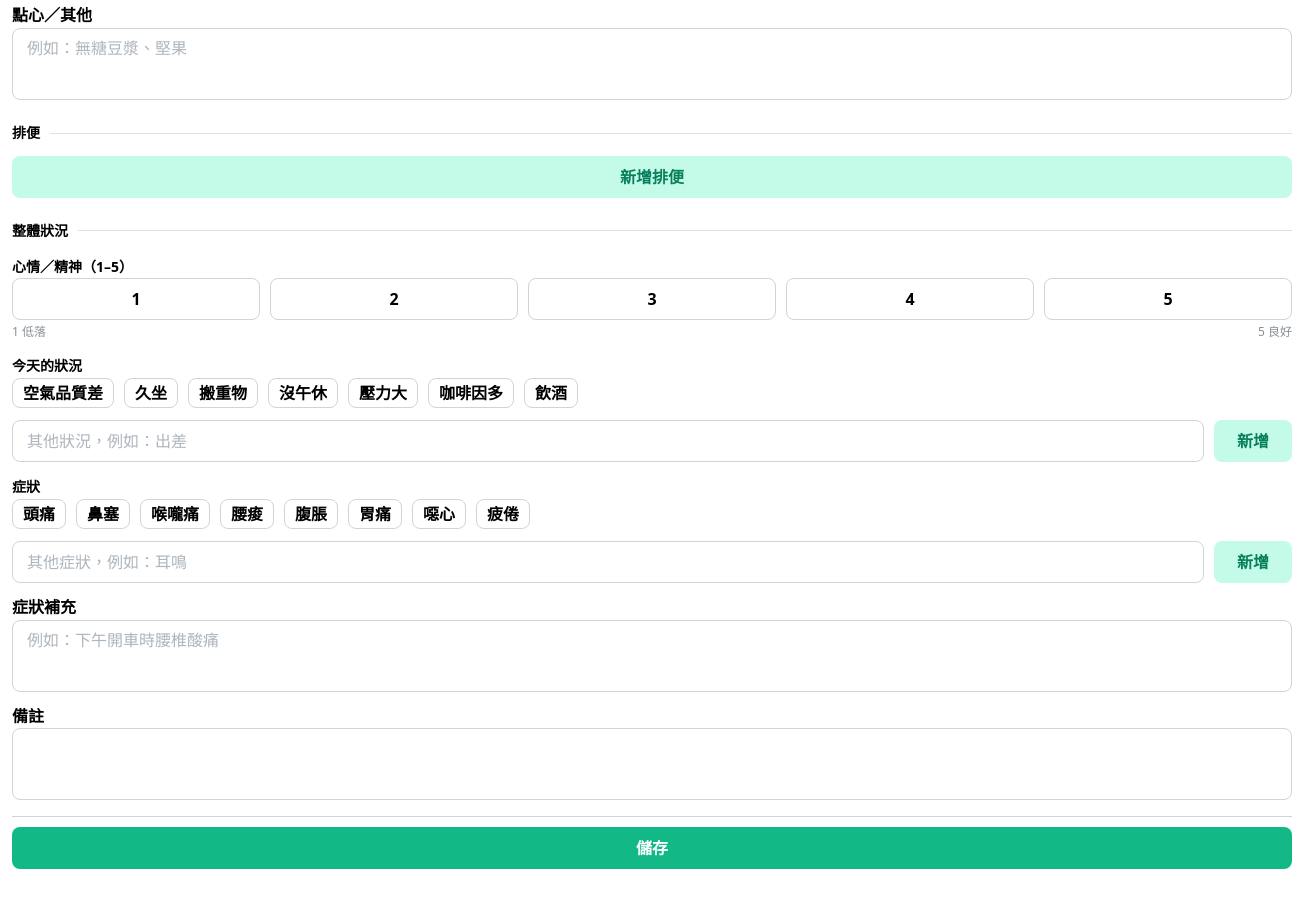
Test: EntryForm：症狀 › 點選症狀後預設輕，可改成中或重，再點一次症狀就取消
(page scrolled)
Click the button "頭痛" at (39, 514), box [12,499,66,529]
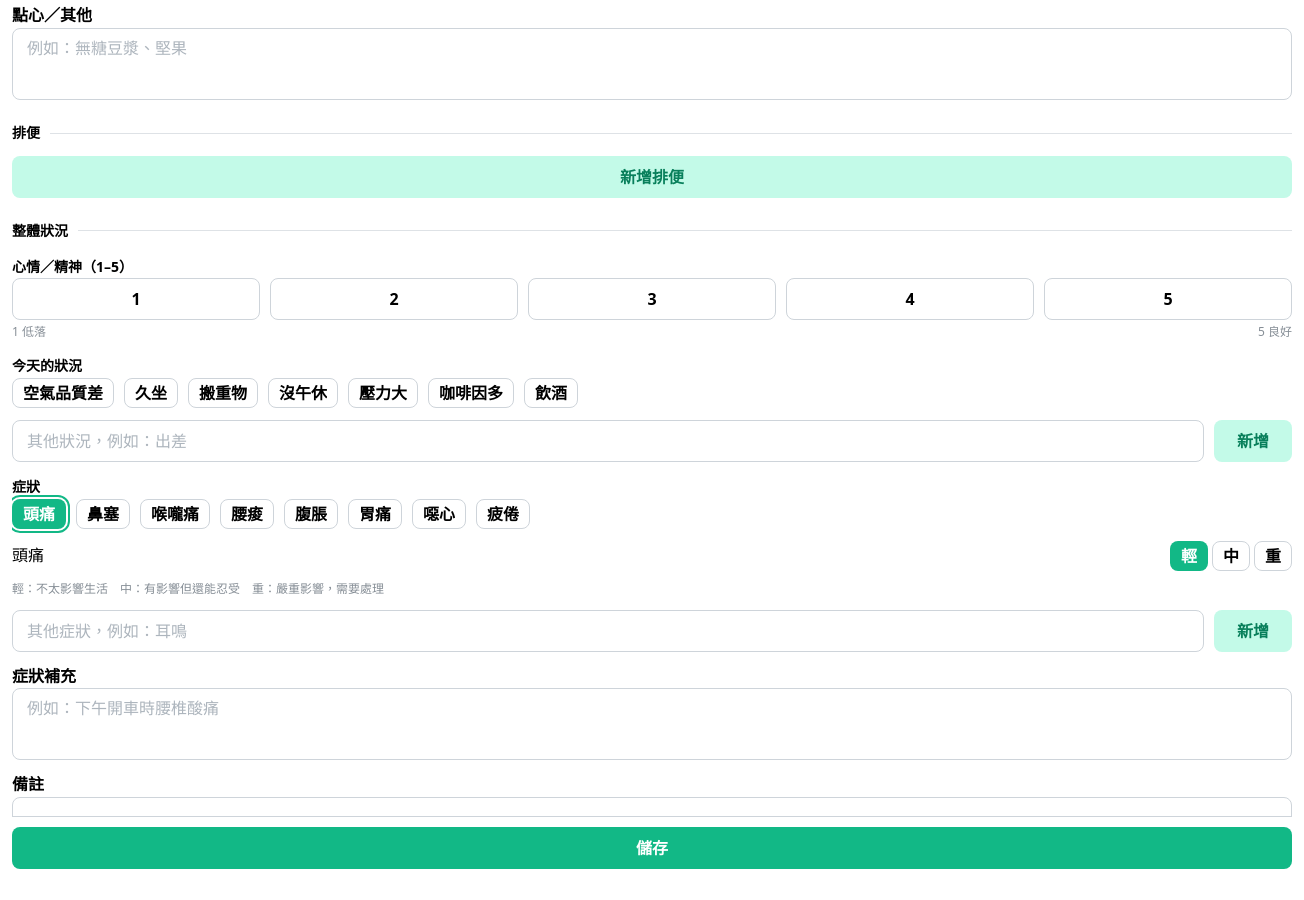
Result: the button "頭痛" is pressed at [12,499,66,529]
Click the button "重" at (1273, 556), box [1254,541,1292,571]
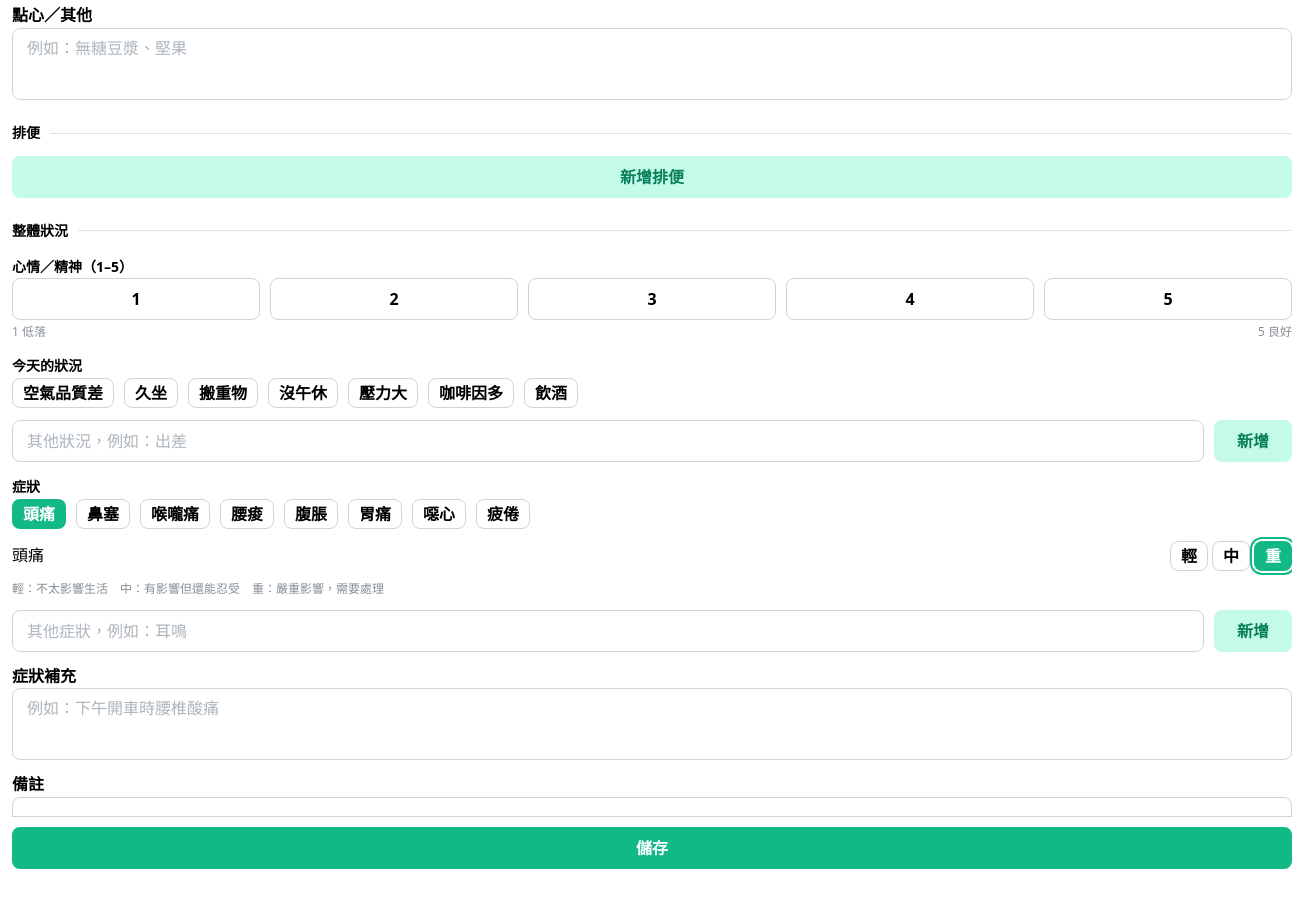
Result: the button "重" is pressed at [1254,541,1292,571]
Result: the button "輕" is not pressed at [1170,541,1208,571]
Click the button "頭痛" at (39, 514), box [12,499,66,529]
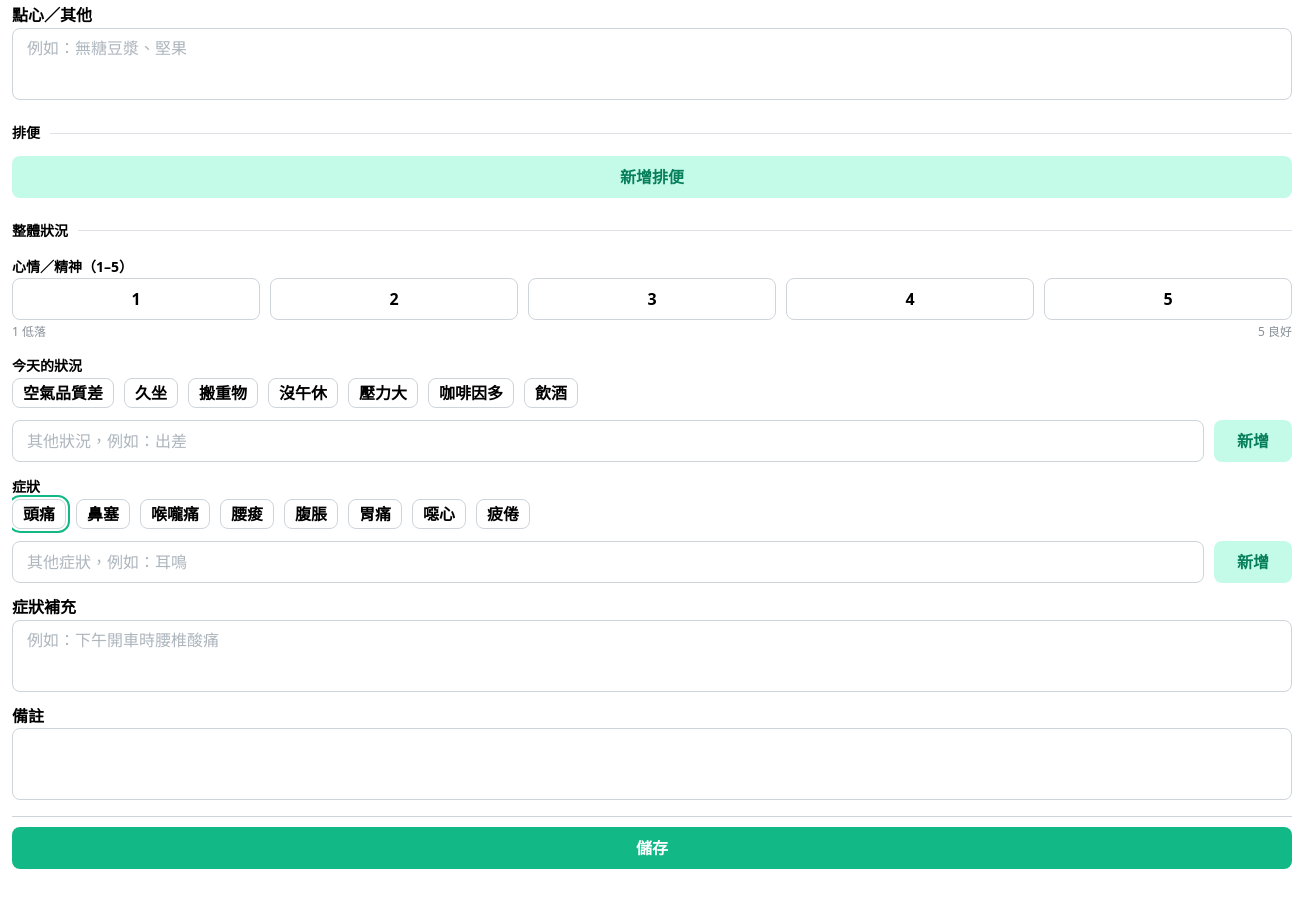
Result: the element "頭痛的嚴重程度" is gone
